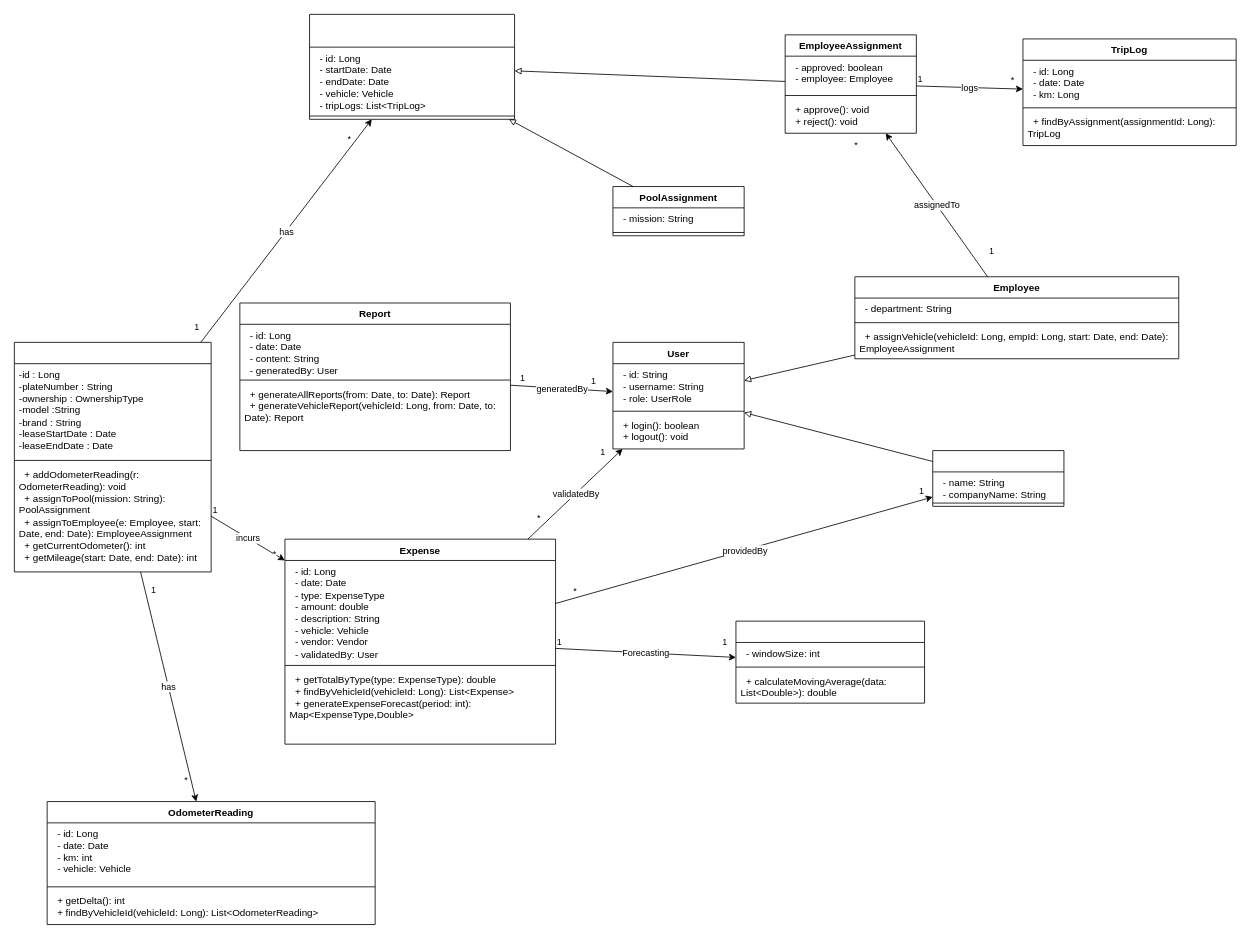
Image size: 1251x941. Some labels were removed from this diagram. The box of each missing label's shape, as (x1, y1, x2, y2) in pixels:
<<Abstract>> Assignment: (309, 14, 515, 119)
ForecastModel: (735, 620, 925, 703)
Vehicle: (14, 342, 211, 572)
Vendor: (932, 450, 1064, 506)
